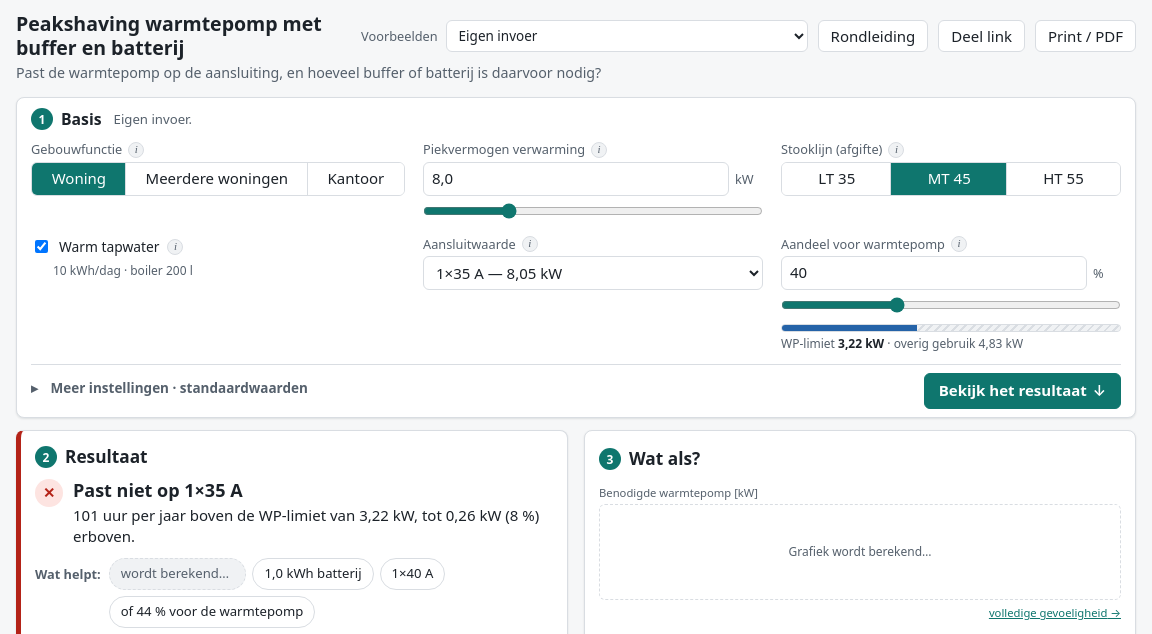
Scenario: invoerblok Gebouw: meerdere woningen › één woning: hint "Groot voor één woning" boven 20 kW; terug naar Woning geeft weer 8 kW
The width and height of the screenshot is (1152, 634).
Expected: the text "Groot voor één woning. Gaat het om een woongebouw, kies dan \"Meerdere woningen\"." is not shown
Replace the text in the field labelled "Piekvermogen verwarming" with "25". click: x=576, y=179
box: [423,162,729,196]
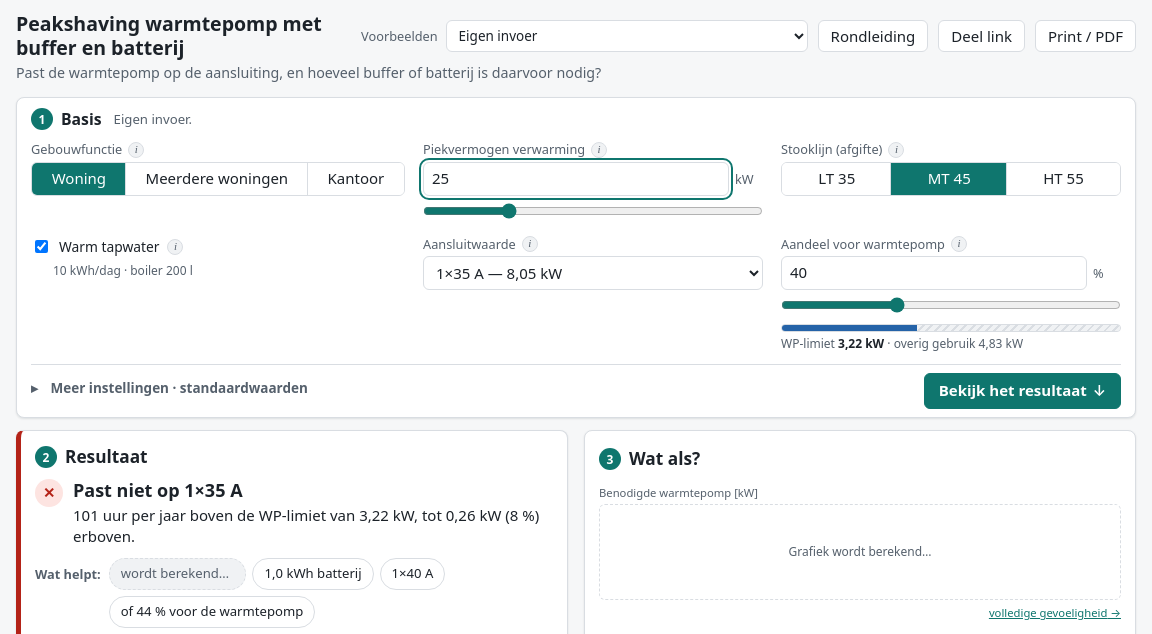
Leave the field labelled "Piekvermogen verwarming", box [423,162,729,196]
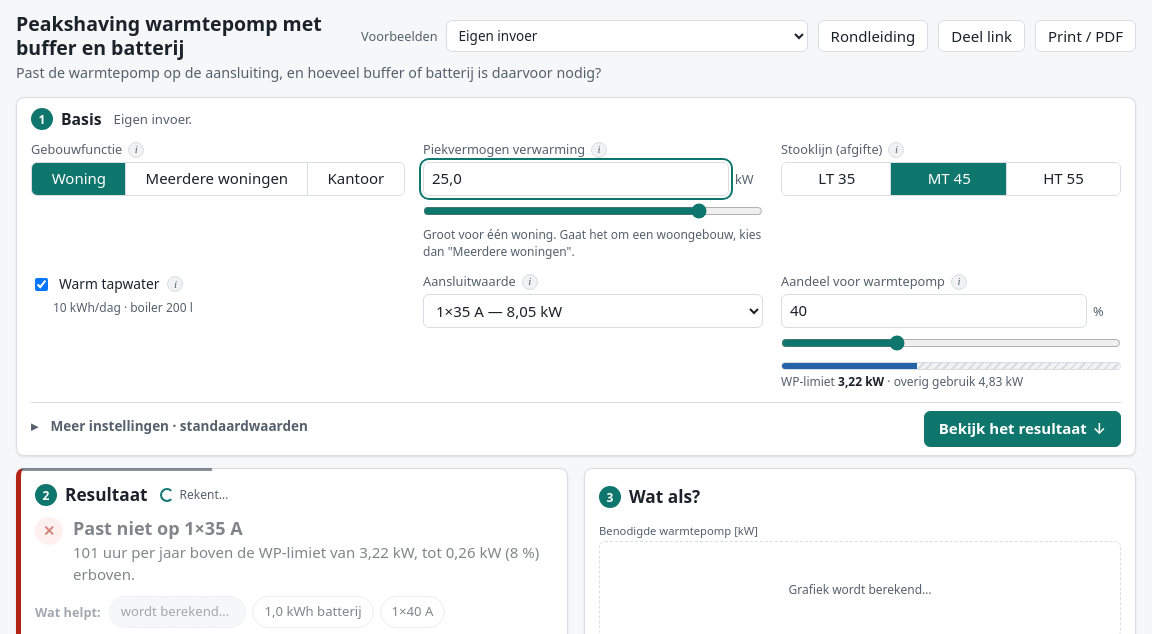
Expected: the text "Groot voor één woning. Gaat het om een woongebouw, kies dan \"Meerdere woningen\"." is shown, [423,226,763,260]
Replace the text in the field labelled "Piekvermogen verwarming" with "8". click: x=576, y=179
box: [423,162,729,196]
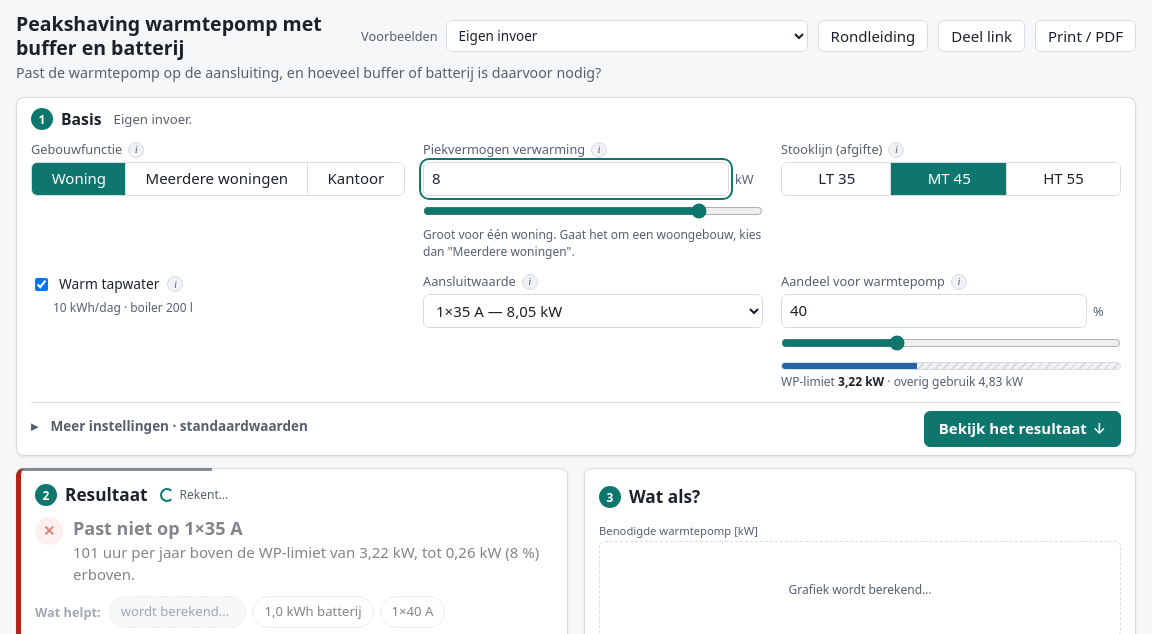
Leave the field labelled "Piekvermogen verwarming", box [423,162,729,196]
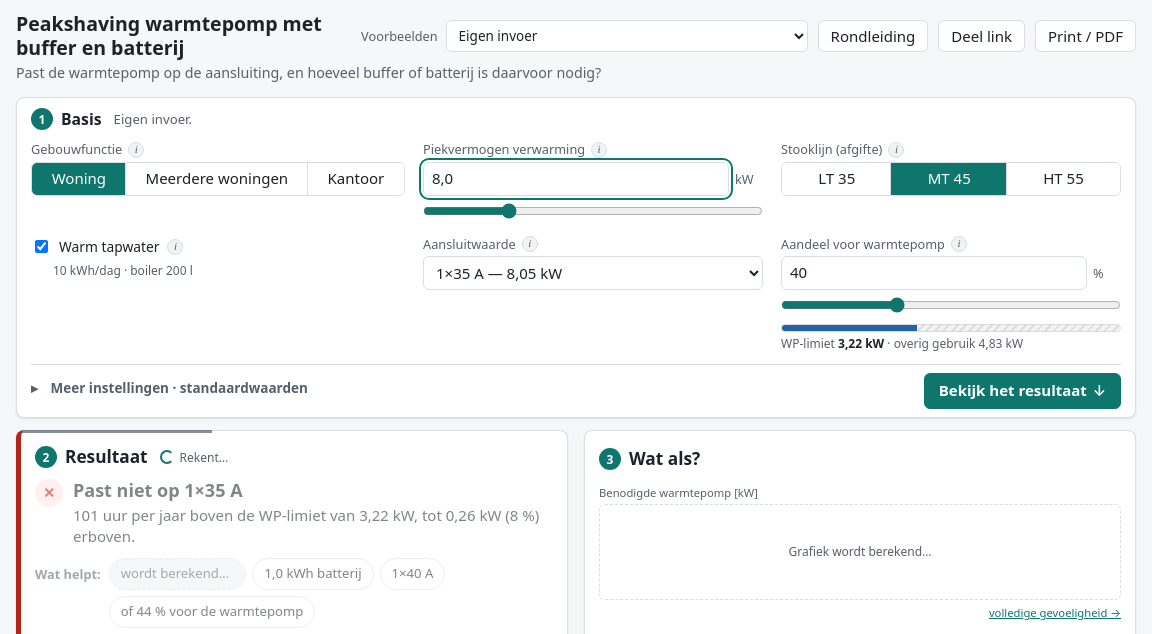
Expected: the text "Groot voor één woning. Gaat het om een woongebouw, kies dan \"Meerdere woningen\"." is gone
Click the button "Meerdere woningen". click: x=216, y=178
box: [125,162,308,195]
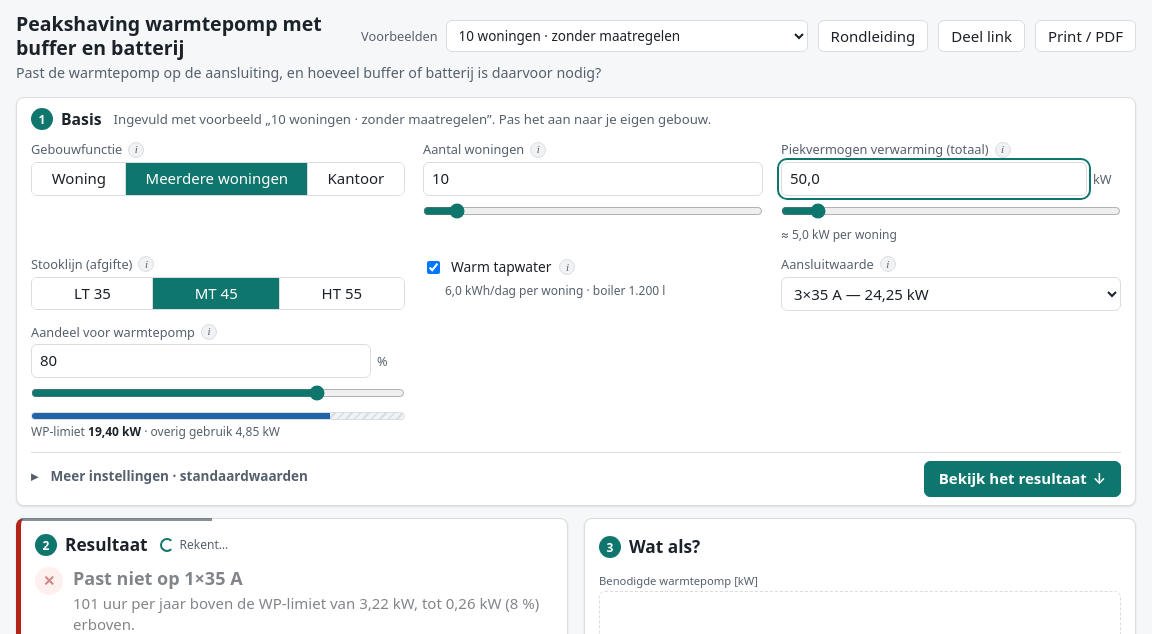
Expected: the text "Groot voor één woning. Gaat het om een woongebouw, kies dan \"Meerdere woningen\"." is not shown
Click the button "Woning". click: x=78, y=178
box: [31,162,126,195]
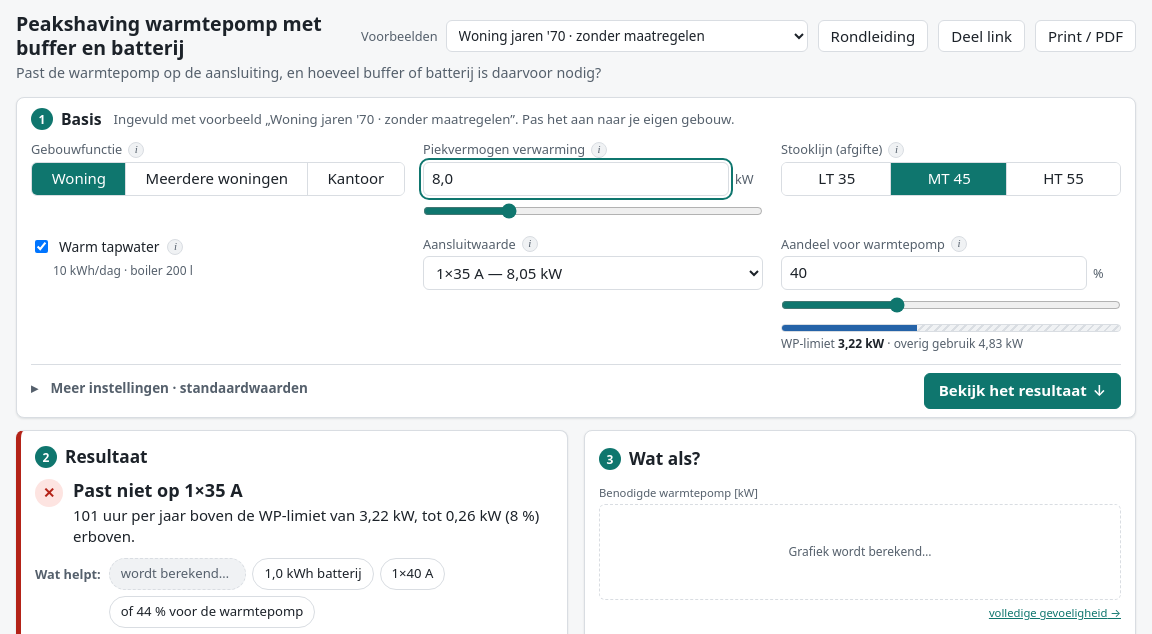
Expected: the field labelled "Piekvermogen verwarming" holds "8,0", [423,162,729,196]
Expected: the label labelled "Aantal woningen" is gone
